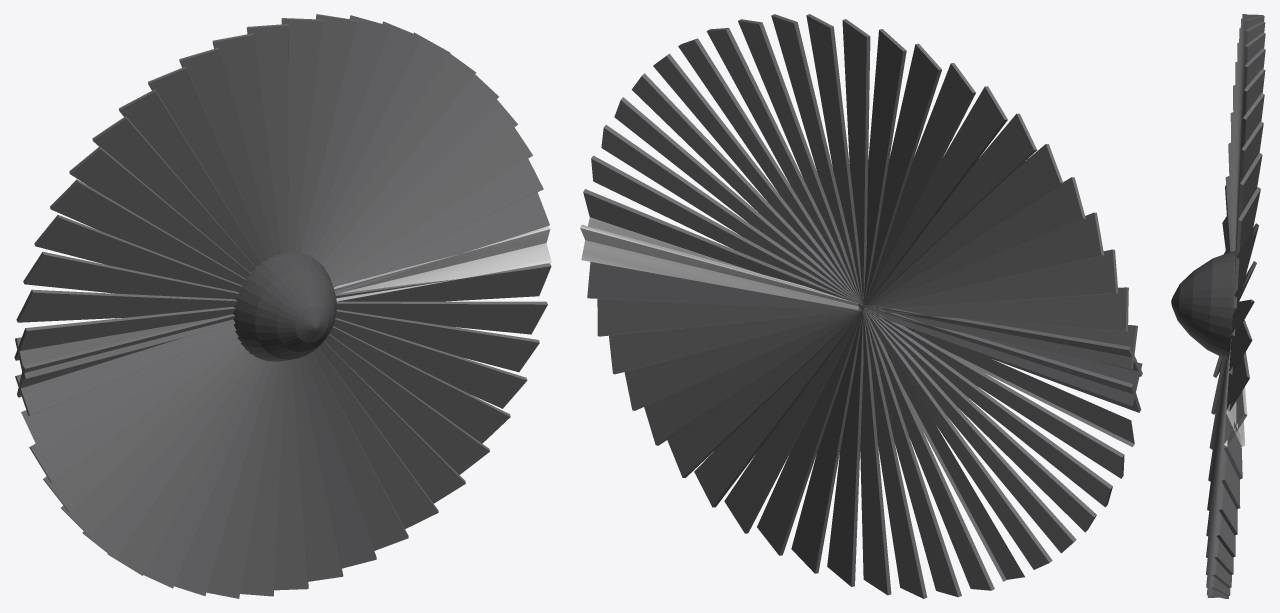
Rendered from PlaneModelFanPart.fbx.
The picture shows the model from 3 angles, left to right: view 1: azimuth 30°, elevation 25°; view 2: azimuth 150°, elevation 25°; view 3: azimuth 270°, elevation 25°; orthographic projection. The views are drawn at different scales.
Visible parts, largest first — view 1: Cylinder.004; view 2: Cylinder.004; view 3: Cylinder.004.
Boxes of the visible parts, x1,y1,x2,y2 form: Cylinder.004: (14, 14, 551, 598); Cylinder.004: (580, 14, 1142, 598); Cylinder.004: (1171, 14, 1265, 598).
Size of the model in its own units: 253 by 40.83 by 253.
1 material, 1 textured.
